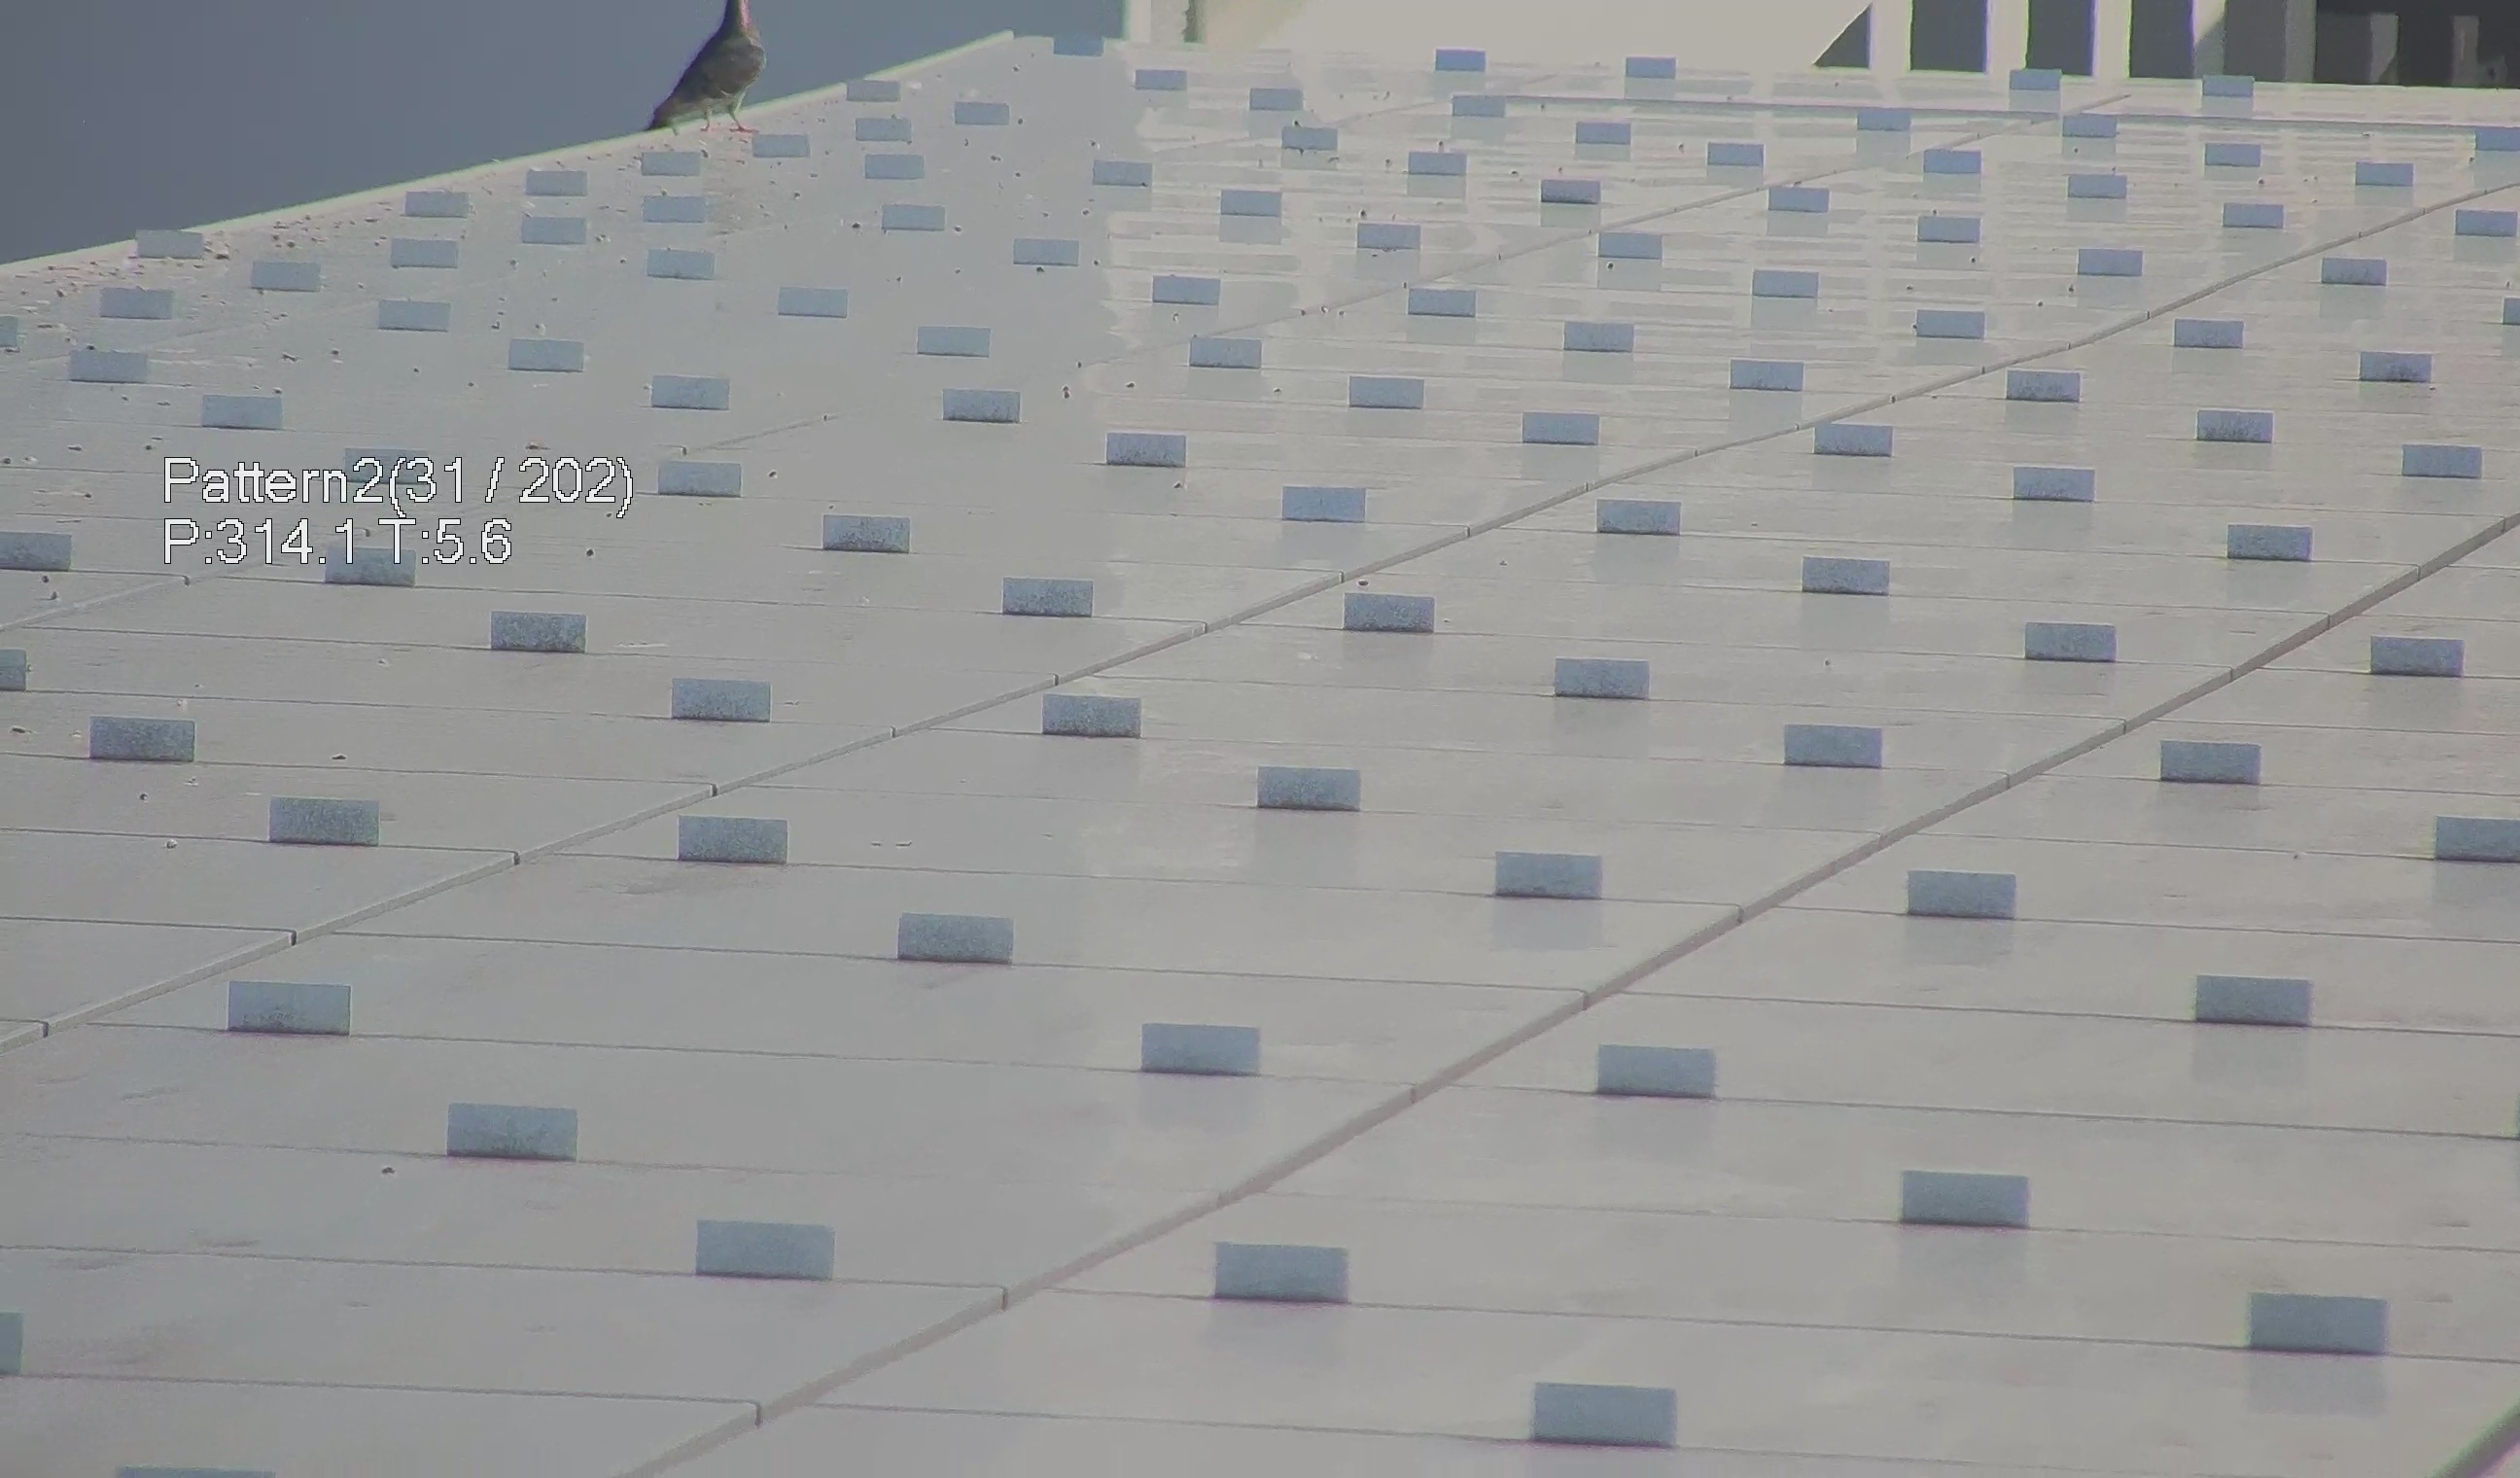Pigeon: (633, 0, 763, 146)
